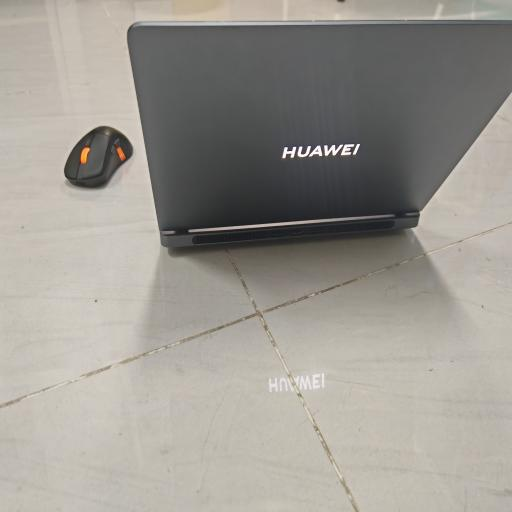laptop: (128, 21, 512, 247)
mouse: (64, 126, 133, 187)
